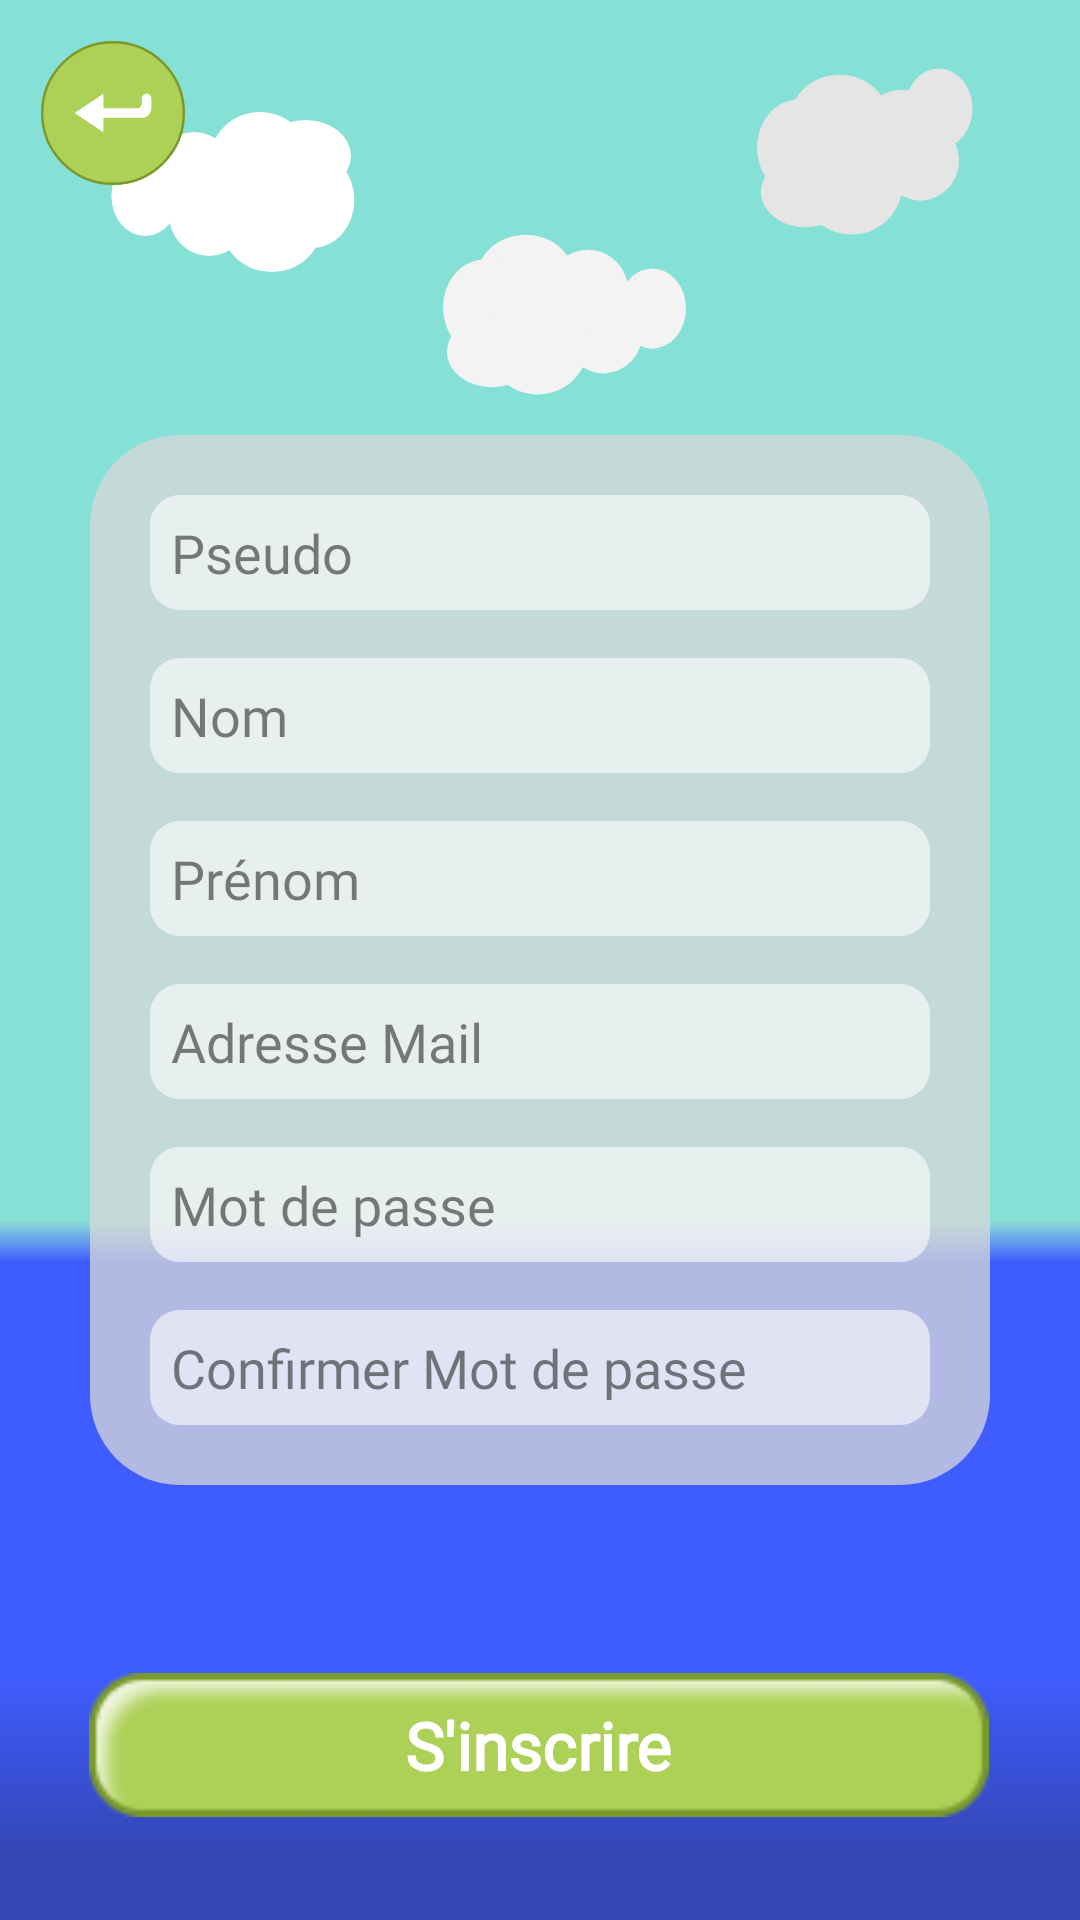

Icon click points for this 1080×1920 phone screenshot, format [x,y]:
Retour: [113,113]
